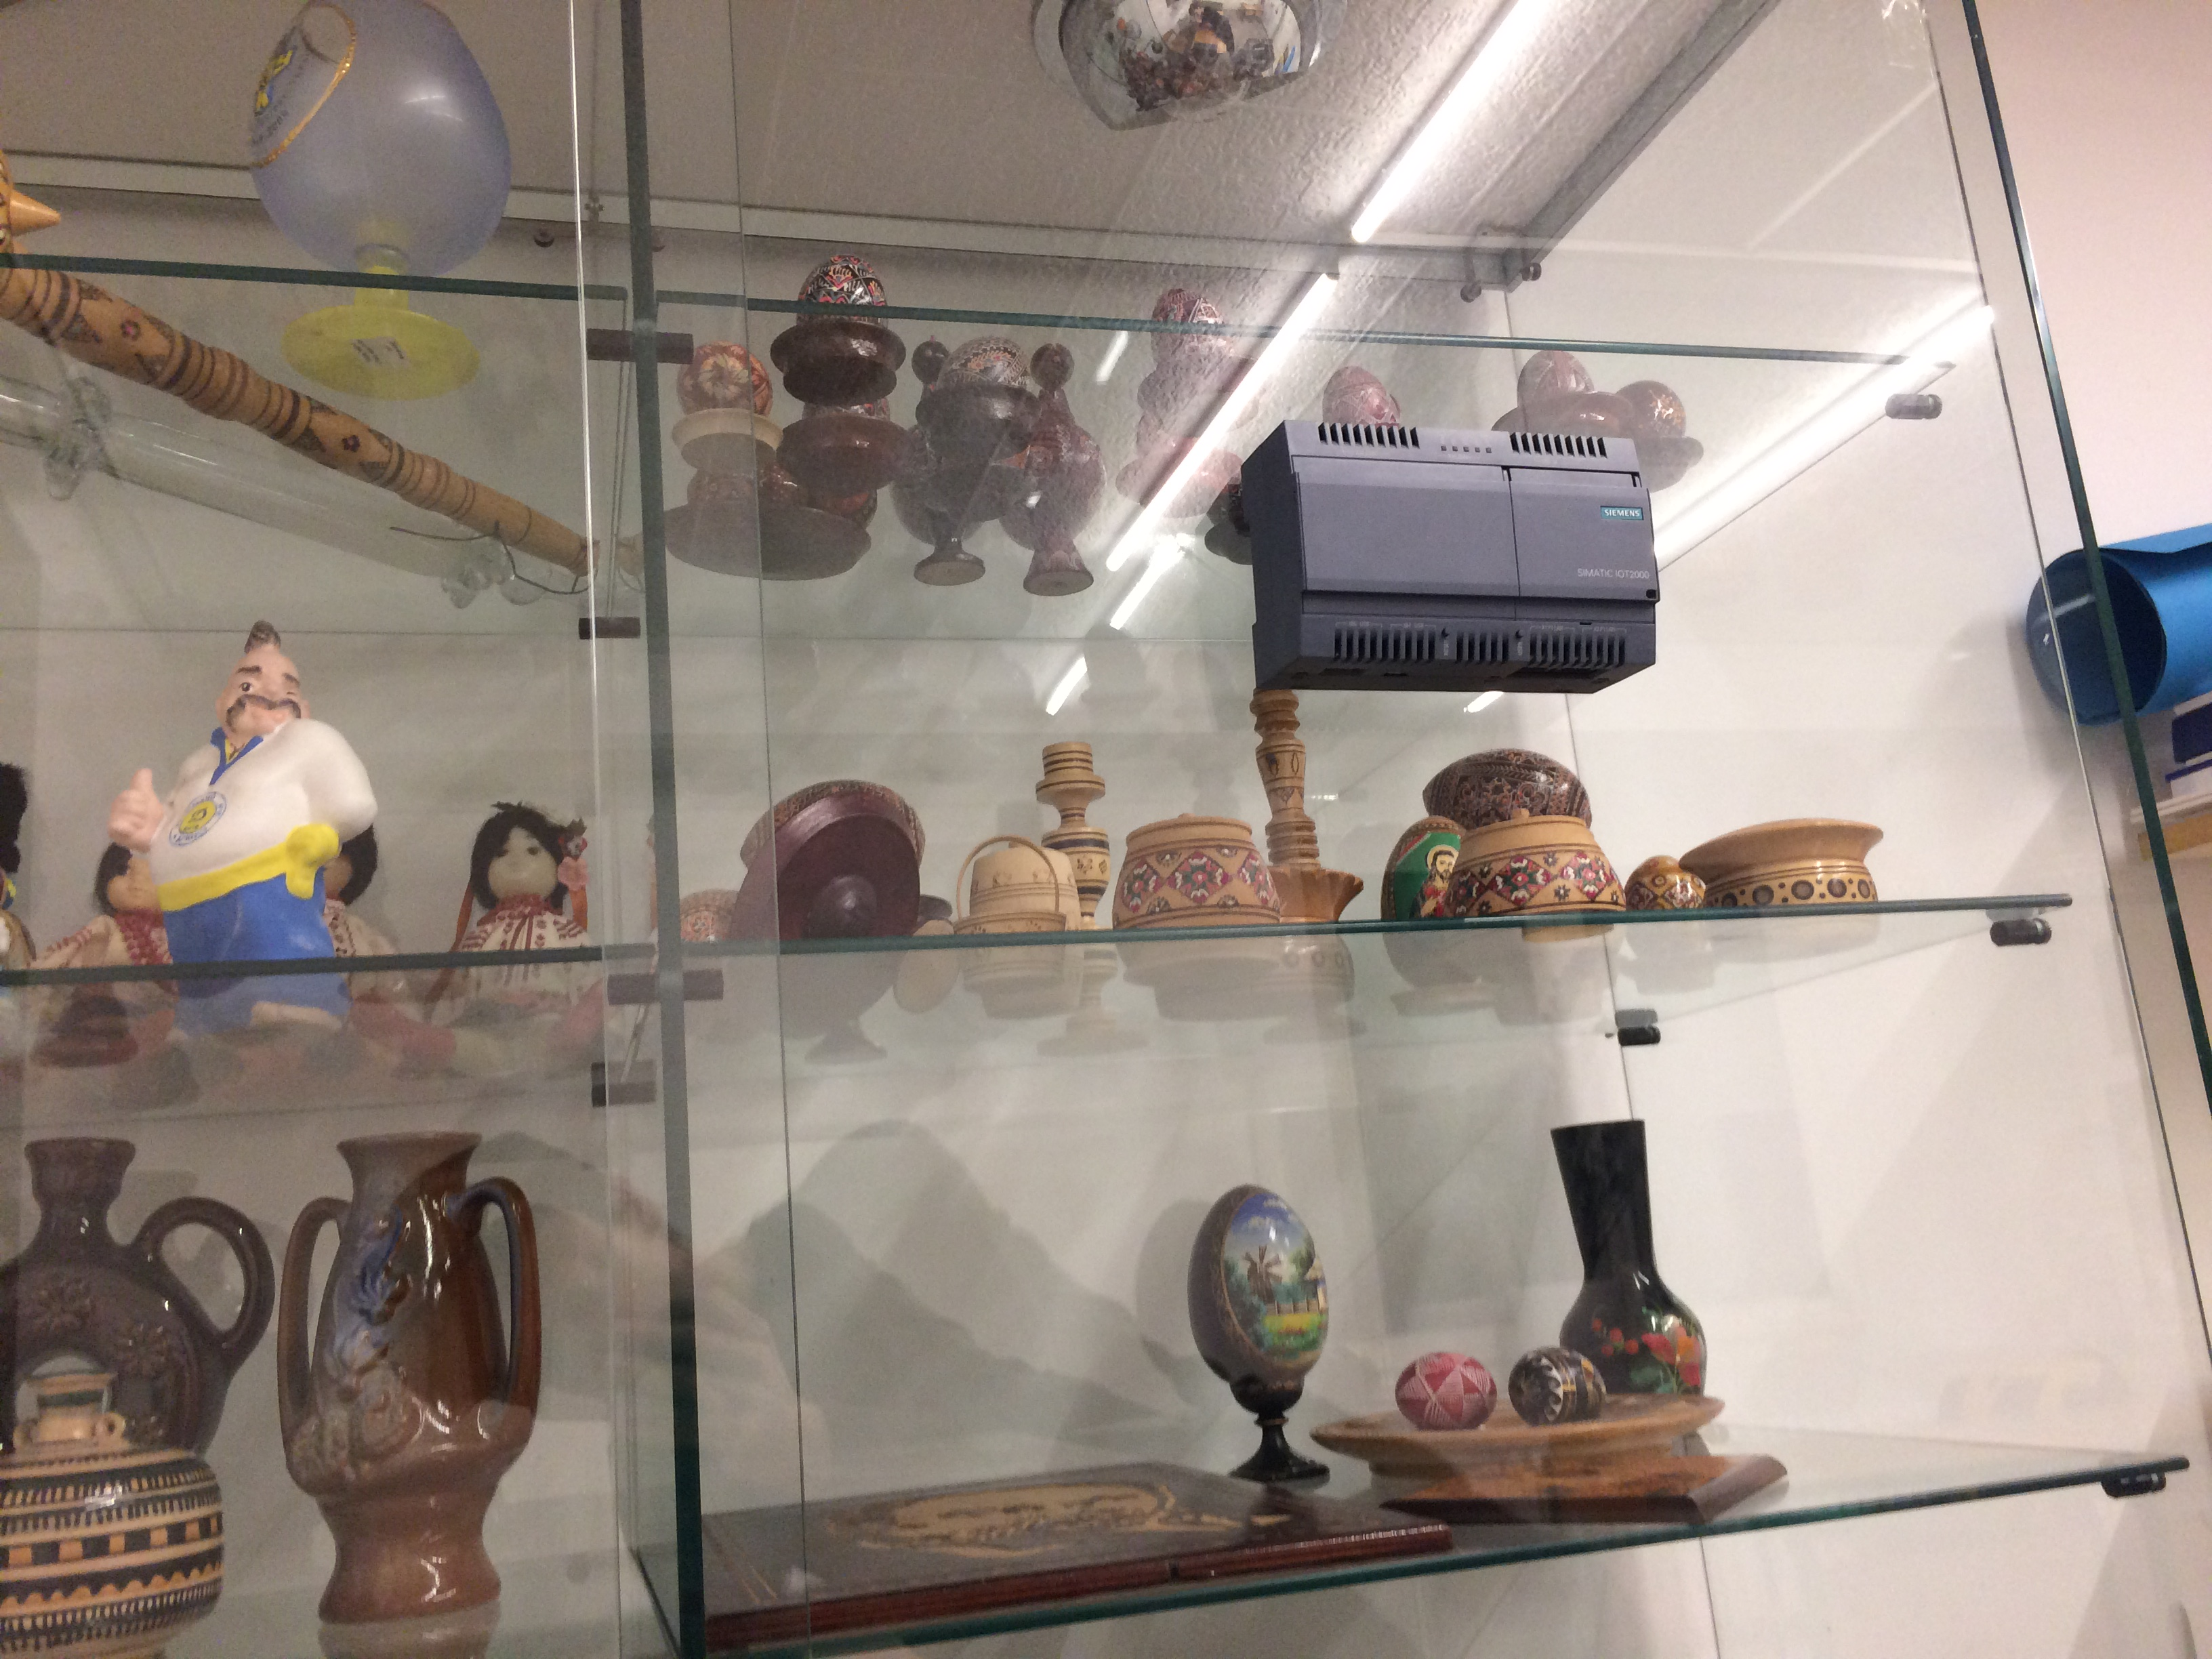iot2000: (1237, 415, 1665, 699)
